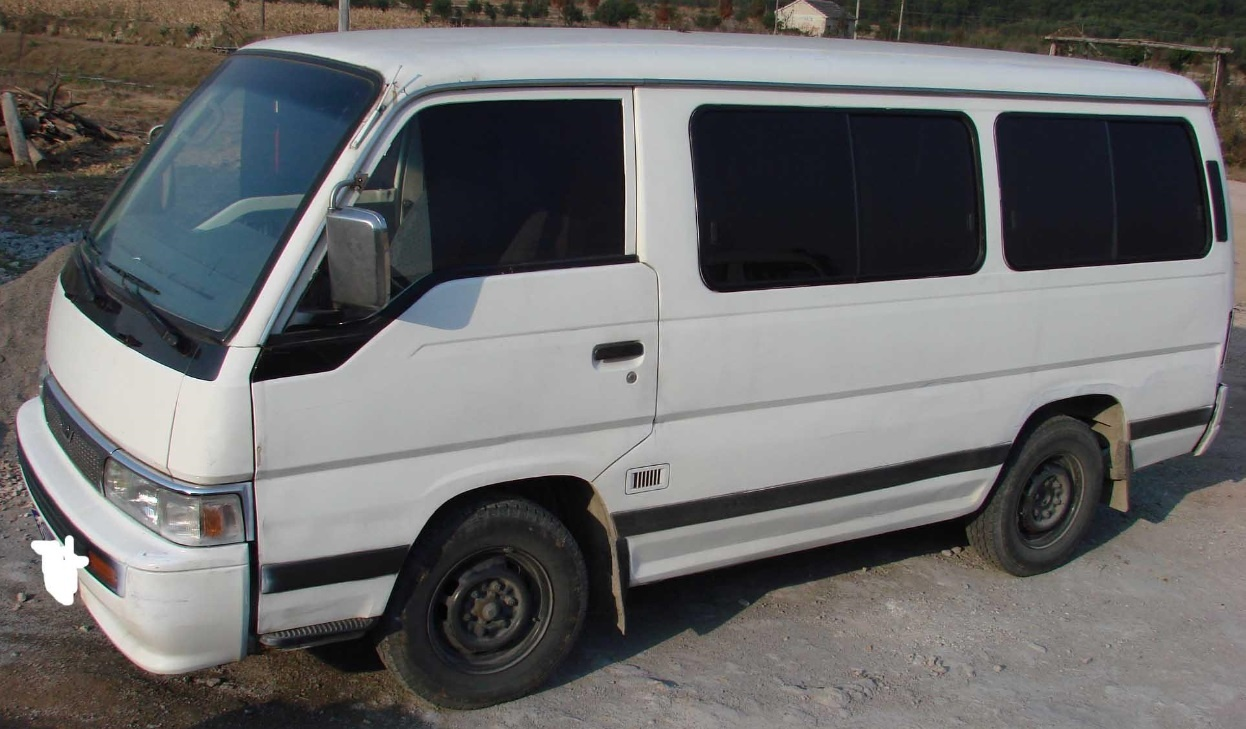minibus: (29, 29, 1246, 675)
